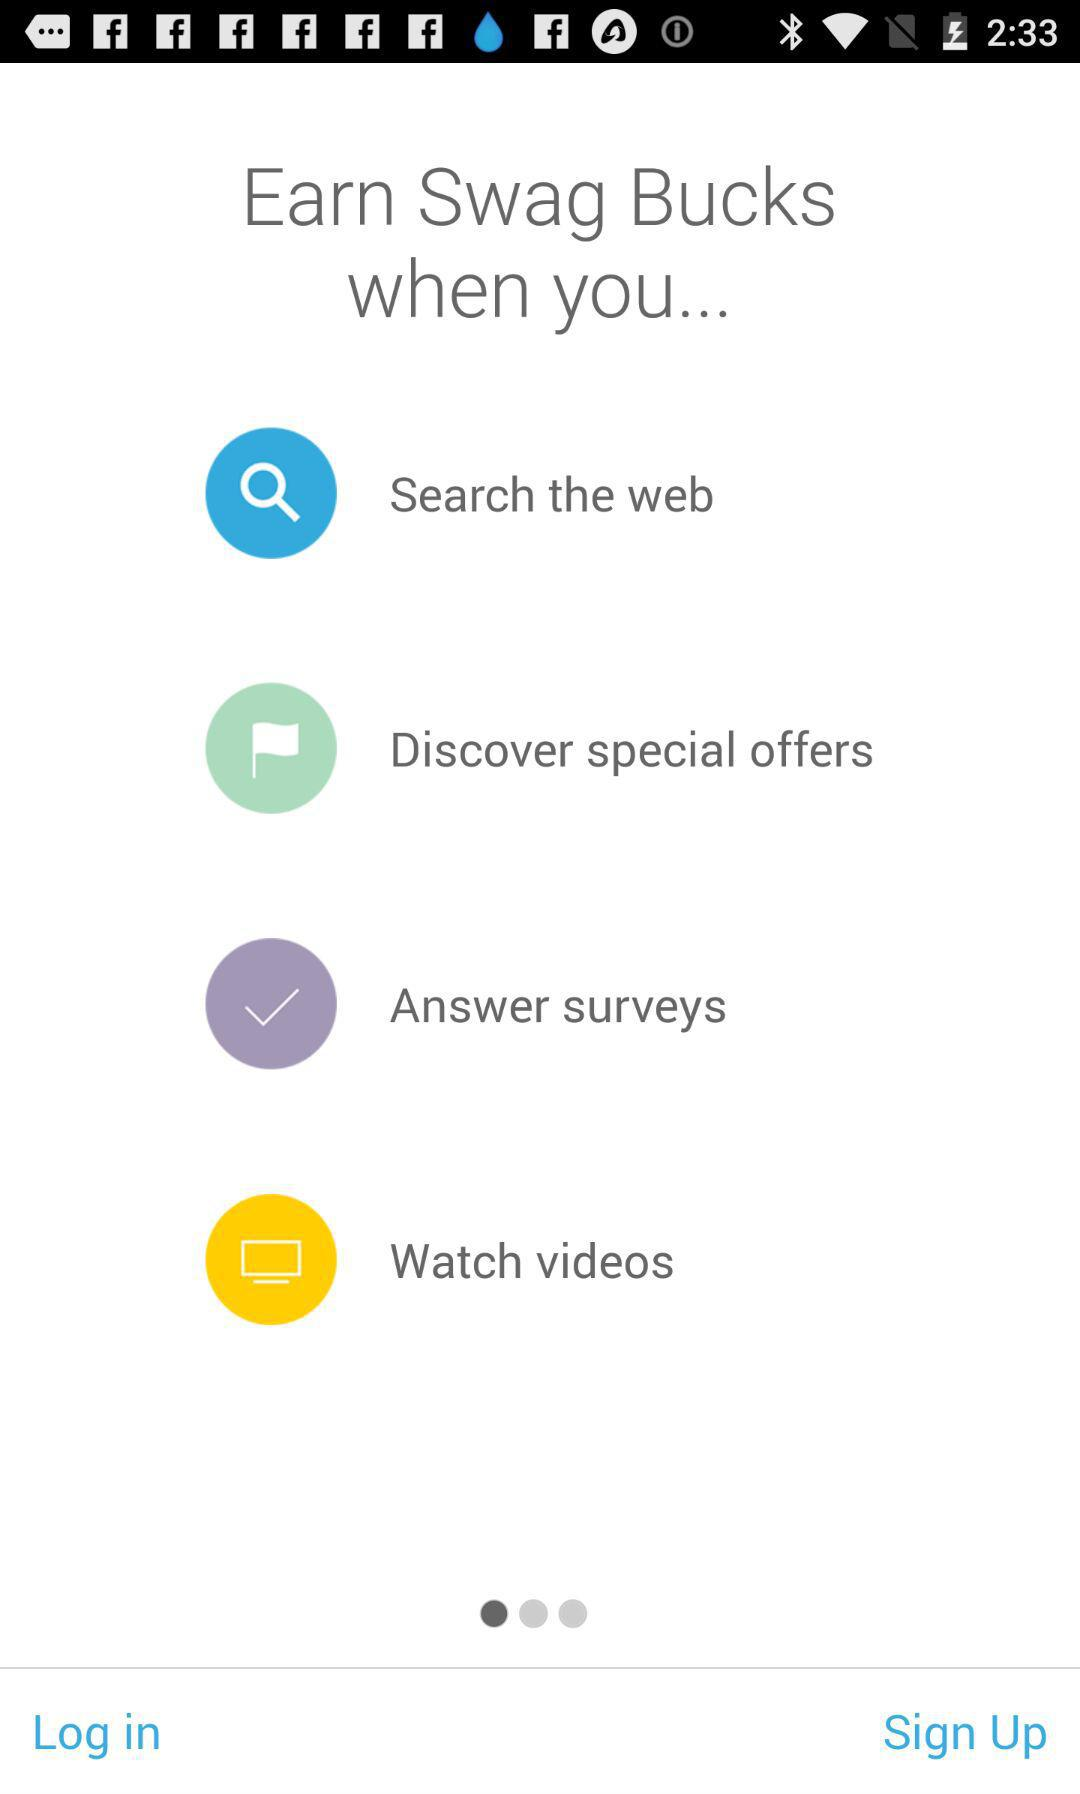Icon: (205, 427, 340, 560), (205, 937, 340, 1070)
Image: (205, 682, 340, 815), (205, 1194, 340, 1328)
PageIndicator: (479, 1598, 589, 1629)
Text: (247, 165, 835, 338), (392, 729, 872, 778), (389, 987, 726, 1035), (391, 475, 714, 515), (389, 1240, 674, 1281), (883, 1711, 1048, 1761), (35, 1711, 161, 1761)
UpperTaskBar: (1, 1, 1080, 64)
